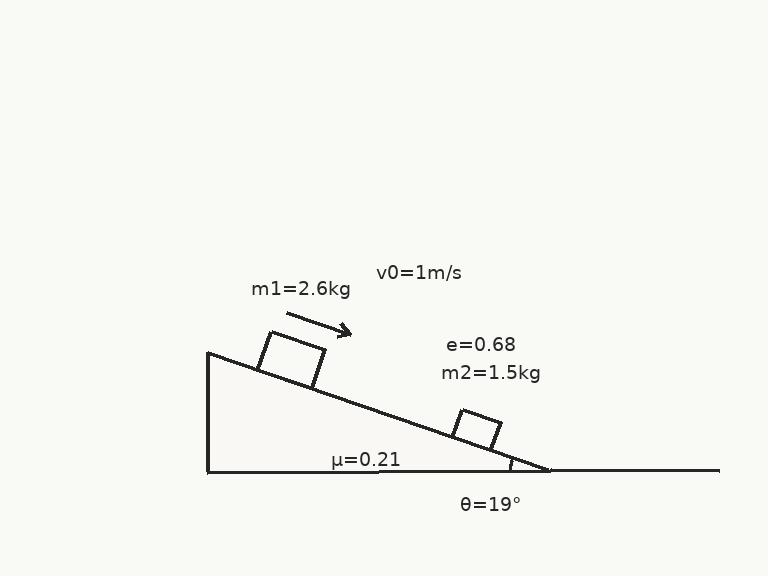block: (256, 329, 326, 390), (451, 407, 501, 451)
ramp: (206, 350, 552, 472)
